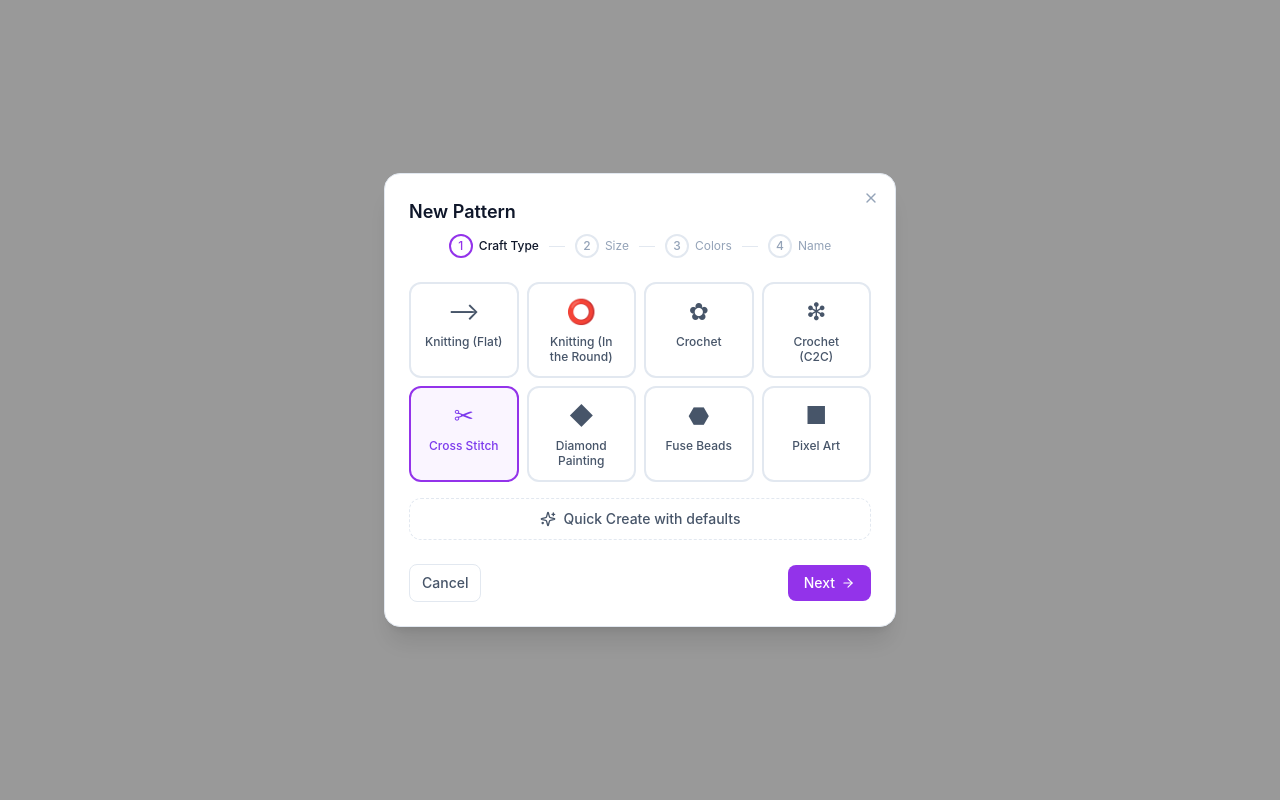
NewPatternDialog › has a custom dimension input
Click the button "Next": (829, 583) [788,565,871,601]
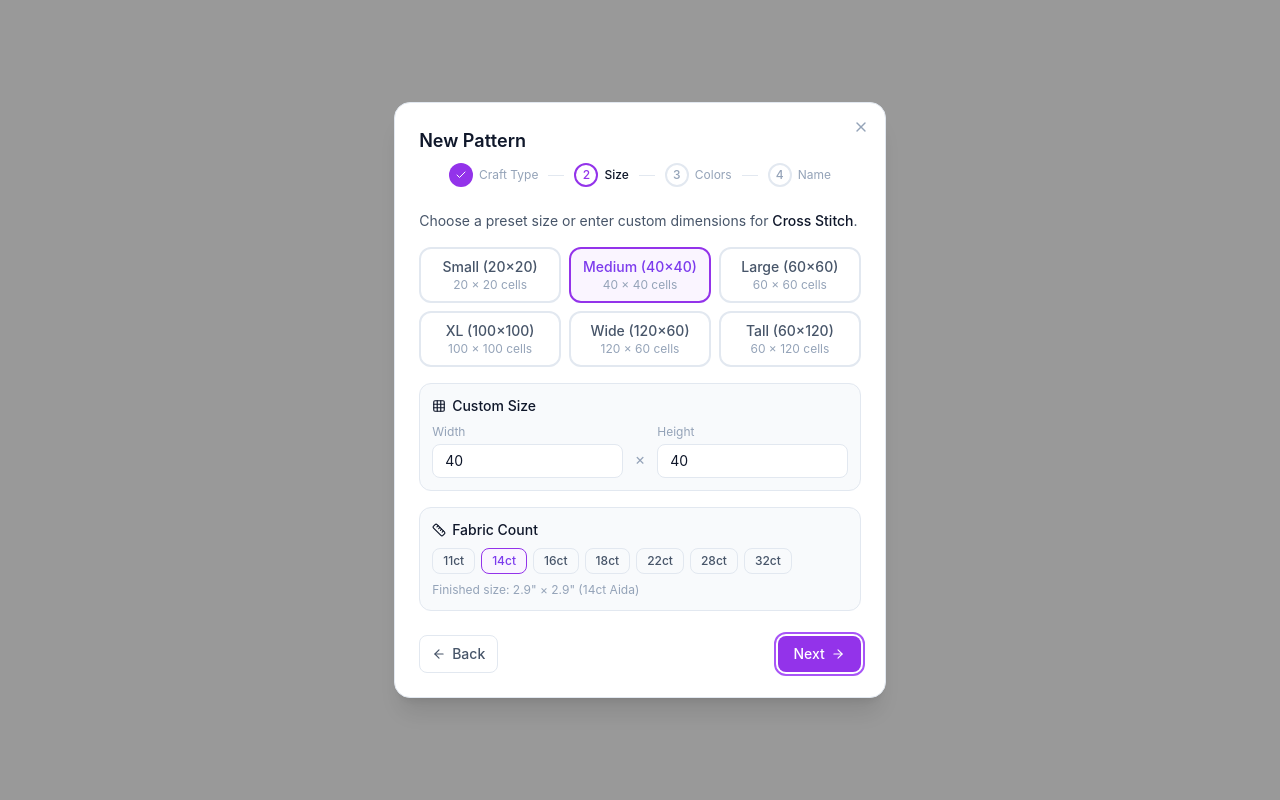
Check: the number field labelled "Width" is shown, box [432,444,623,478]
Check: the number field labelled "Height" is shown, box [657,444,848,478]
